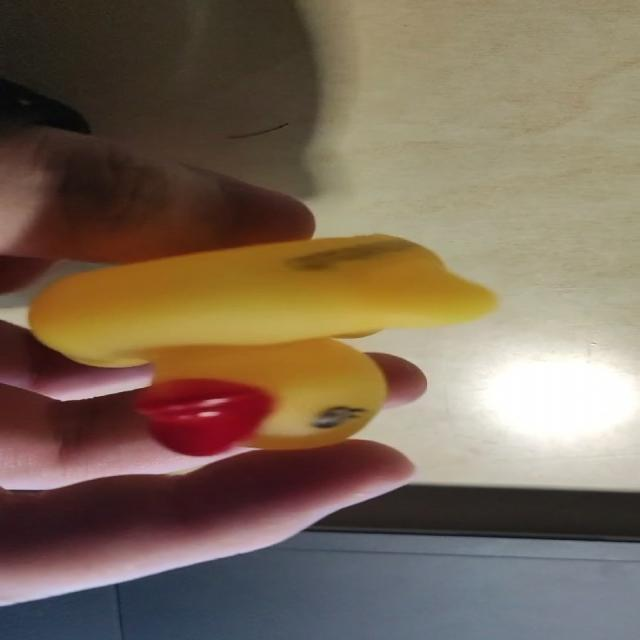rubber-duck: (28, 234, 494, 453)
